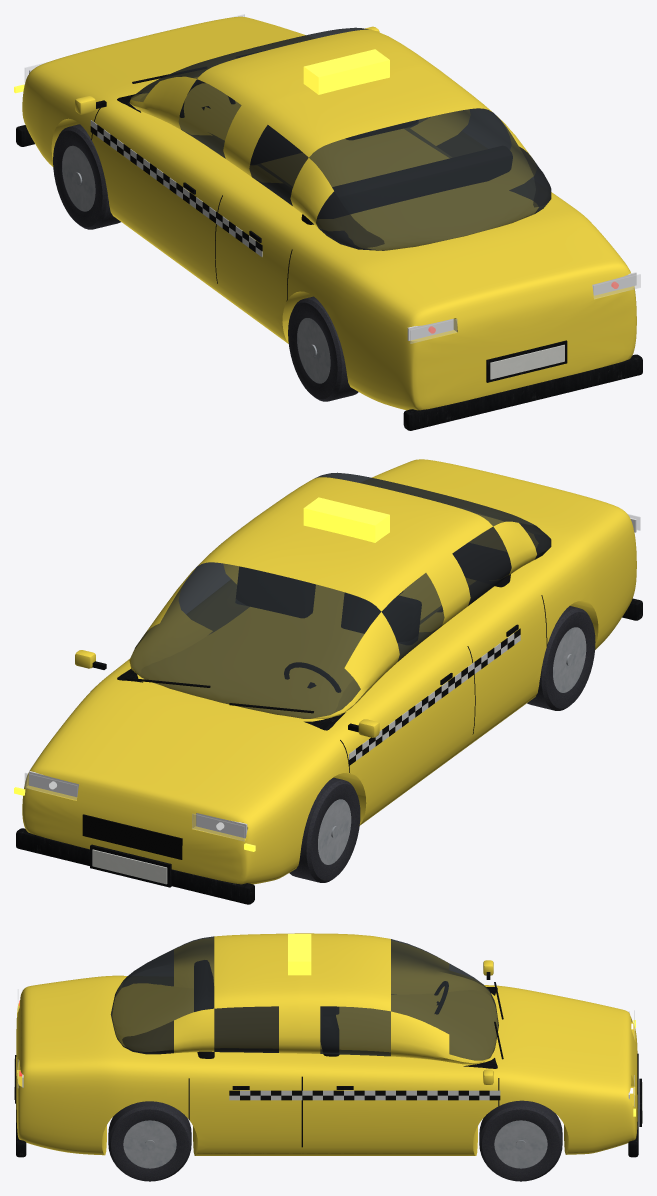
File: taxi_yellow.gltf
The picture shows the model from 3 angles, top to bottom: view 1: azimuth 30°, elevation 25°; view 2: azimuth 150°, elevation 25°; view 3: azimuth 270°, elevation 25°; orthographic projection. The views are drawn at different scales.
Visible parts, largest first — view 1: taxi_yellow; view 2: taxi_yellow; view 3: taxi_yellow.
Boxes of the visible parts, left/top/right/bottom form: taxi_yellow: left=14, top=14, right=642, bottom=430; taxi_yellow: left=14, top=459, right=642, bottom=904; taxi_yellow: left=14, top=933, right=642, bottom=1181.
Size of the model in its own units: 2.11 by 1.57 by 4.83.
Materials: 19 (10 with a texture image).
